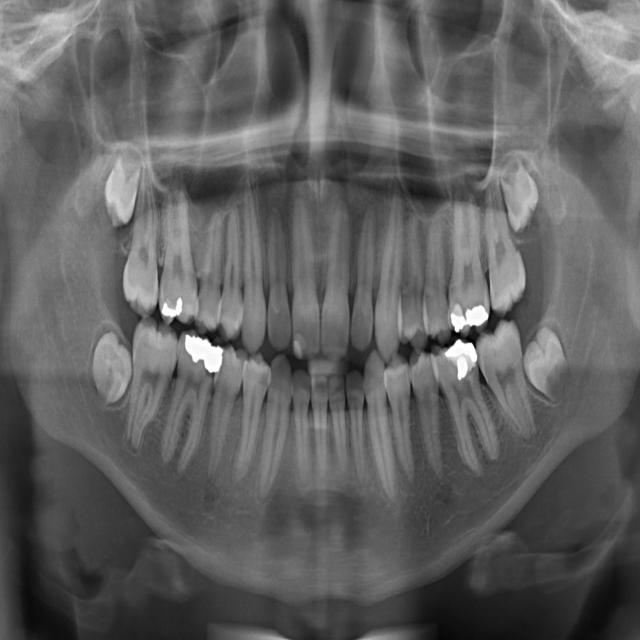AmalgamRestoration: (183, 328, 225, 373), (444, 336, 478, 381), (451, 302, 489, 335), (162, 288, 185, 322)
CompositeResinRestoration: (294, 335, 310, 361)
DentalCaries: (455, 290, 473, 311), (260, 368, 272, 394), (467, 363, 479, 389), (204, 368, 213, 389)
